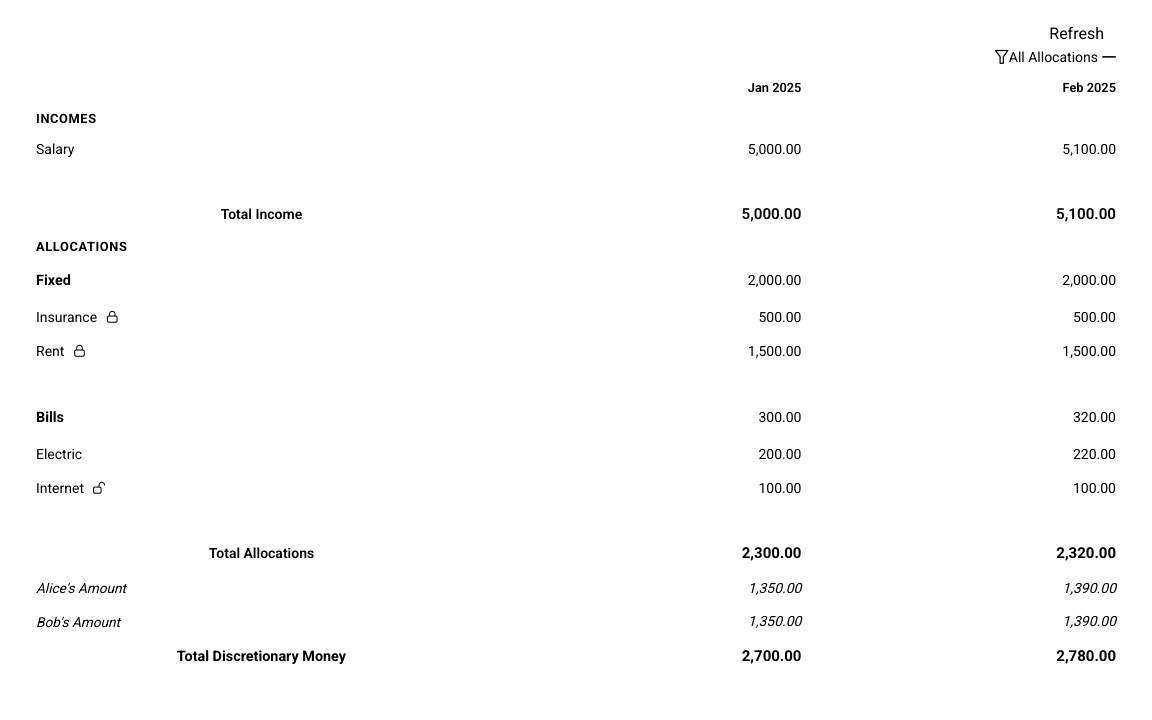
Test case: FutureBudgetsPage › variable-only mode filtering › shows per-category fixed subtotal row with correct amounts per budget
This screenshot has width=1152, height=720.
Click the button with test id "variable-only-toggle". click: [1046, 57]
box: [995,49,1098,65]
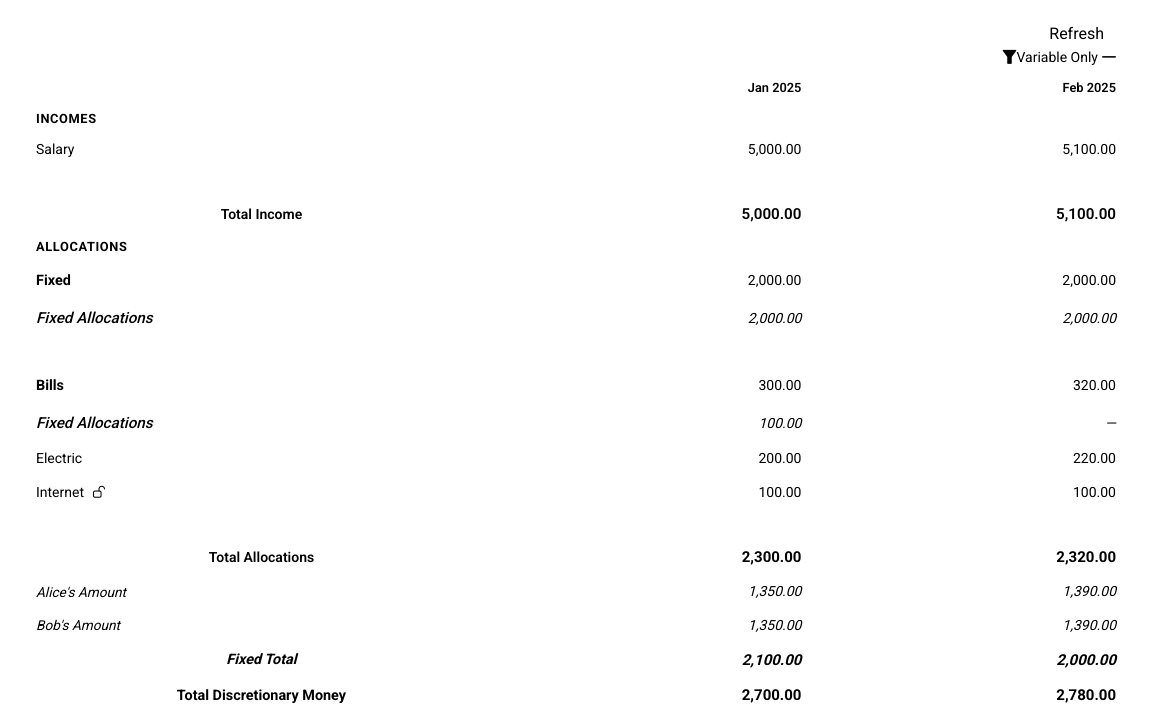
Expected: the row with test id "fixed-subtotal-3" is shown, [24,300,1128,336]
Expected: the row with test id "fixed-subtotal-3" shows "2,000.00", [748,310,802,326]
Expected: the row with test id "fixed-subtotal-5" is shown, [24,406,1128,441]
